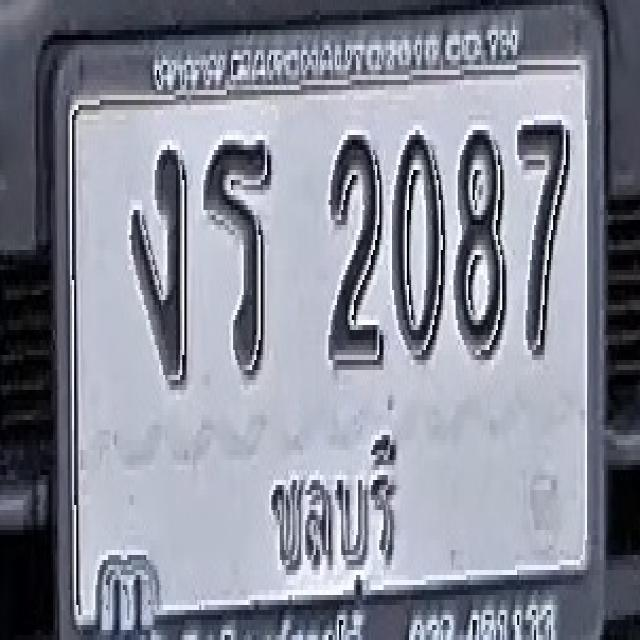-: (205, 138, 272, 378), (130, 145, 188, 385)
0: (393, 130, 444, 360)
2: (328, 130, 384, 365)
7: (517, 120, 568, 355)
8: (454, 125, 506, 355)
CBI: (264, 425, 397, 599)
